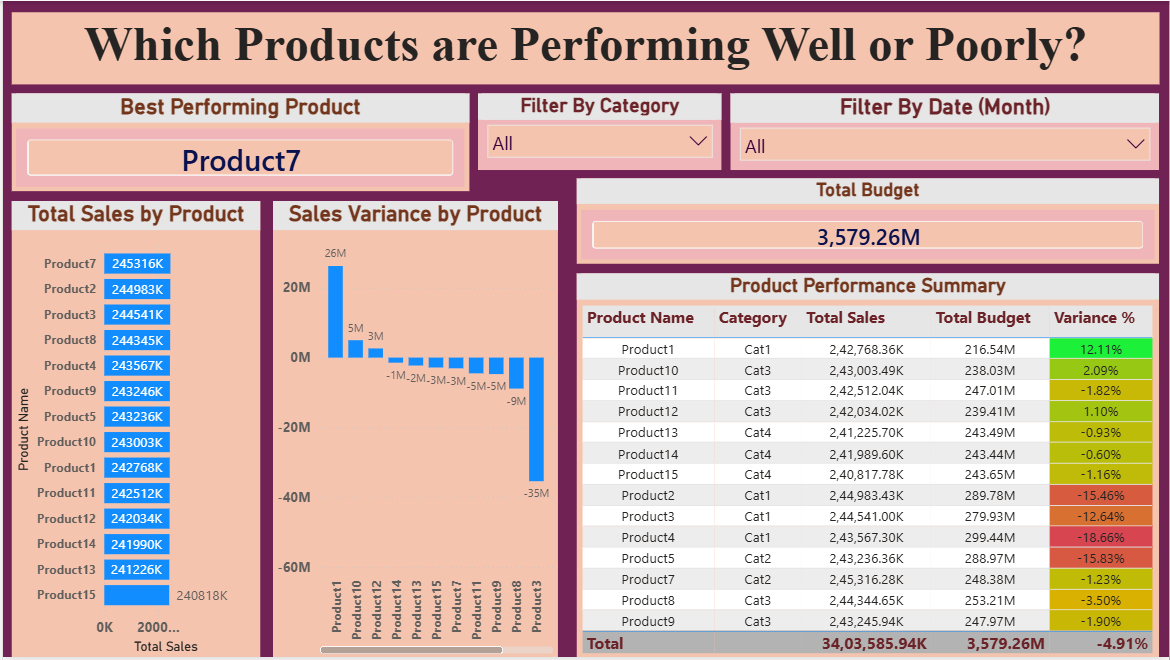

This screenshot's page, from the dashboard's own definition file:
{"tool":"powerbi","page":{"name":"Product Performance","canvas":[1280,720],"ordinal":1},"visuals":[{"type":"textbox","box":[9.6,12.3,1259.7,79.6],"z":0},{"type":"clusteredBarChart","title":"Total Sales by Product","fields":{"Category":["Product Master.Product Name"],"Y":["Sales.Total Sales"]},"box":[9.6,219.6,273.1,500.9],"z":1000},{"type":"clusteredColumnChart","title":"Sales Variance by Product","fields":{"Category":["Product Master.Product Name"],"Y":["Sales.Sales Variance"]},"box":[296.4,219.6,312.9,500.9],"z":2000},{"type":"tableEx","title":"Product Performance Summary","fields":{"Values":["Product Master.Product Name","Product Master.Category","Sales.Total Sales","Budget.Total Budget","Sales.Variance %"]},"box":[629.8,299.1,639.5,421.3],"z":3000},{"type":"cardVisual","title":"Best Performing Product","fields":{"Data":["Product Master.Best Performing Product"]},"box":[9.6,101.5,502.2,107],"z":4000},{"type":"slicer","title":"Filter By Category","fields":{"Values":["Product Master.Category"]},"box":[521.4,101.5,267.6,83.7],"z":5000},{"type":"cardVisual","title":"Total Budget","fields":{"Data":["Budget.Total Budget"]},"box":[629.8,194.9,639.5,93.3],"z":6000},{"type":"slicer","title":"Filter By Date (Month)","fields":{"Values":["Sales.Date.Variation.Date Hierarchy.Month"]},"box":[798.6,101.5,470.7,83.7],"z":7000}]}

Visuals, with their boxes in screenshot pixels (x1, y1, x2, y2), scaled from the page's 1280x720 canvas onto the 1170x660 screenshot:
textbox: (x1=9, y1=11, x2=1160, y2=84)
"Total Sales by Product" clusteredBarChart: (x1=9, y1=201, x2=258, y2=659)
"Sales Variance by Product" clusteredColumnChart: (x1=271, y1=201, x2=557, y2=659)
"Product Performance Summary" tableEx: (x1=576, y1=274, x2=1160, y2=659)
"Best Performing Product" cardVisual: (x1=9, y1=93, x2=468, y2=191)
"Filter By Category" slicer: (x1=477, y1=93, x2=721, y2=170)
"Total Budget" cardVisual: (x1=576, y1=179, x2=1160, y2=264)
"Filter By Date (Month)" slicer: (x1=730, y1=93, x2=1160, y2=170)
